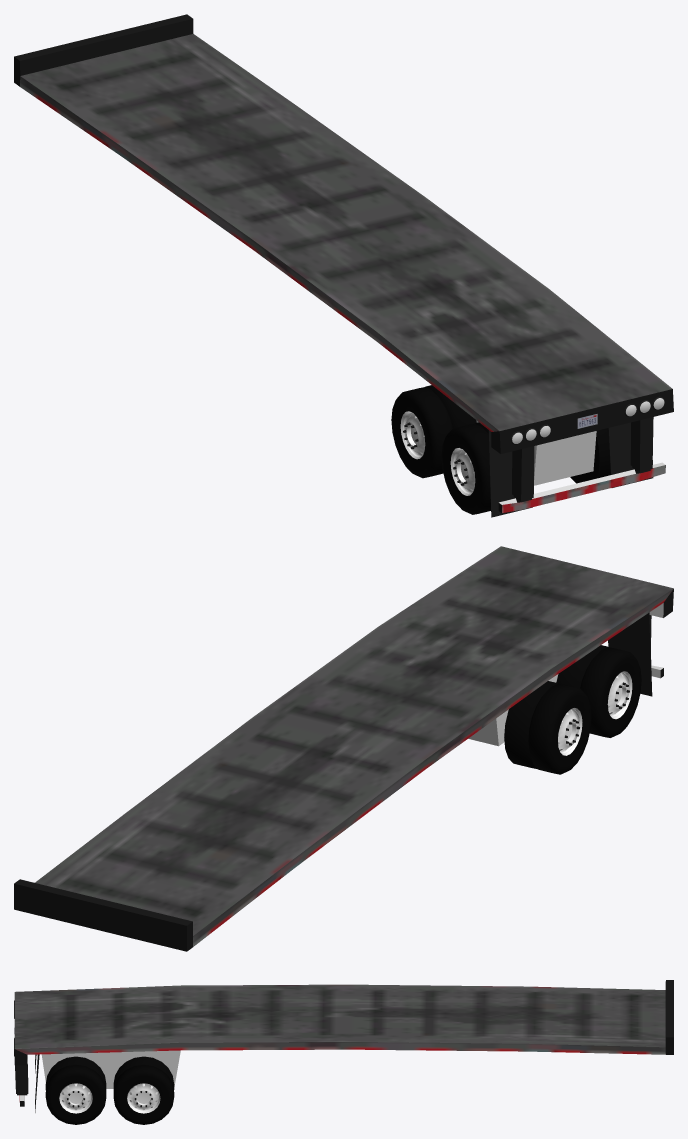
File: MCLA_VA_SEMITRUCK_00_FLATBED.glb
3 renders of one model, top to bottom at view 1: azimuth 30°, elevation 25°; view 2: azimuth 150°, elevation 25°; view 3: azimuth 270°, elevation 25°, orthographic. The views are drawn at different scales.
Visible parts, largest first — view 1: va_semitruck_00_flatbed/resources/vehicle/va_semitruck_00_fl (×6); view 2: va_semitruck_00_flatbed/resources/vehicle/va_semitruck_00_fl (×5); view 3: va_semitruck_00_flatbed/resources/vehicle/va_semitruck_00_fl (×5).
Boxes of the visible parts, bbox=[...] form: va_semitruck_00_flatbed/resources/vehicle/va_semitruck_00_fl (×6): bbox=[14, 14, 673, 517]; va_semitruck_00_flatbed/resources/vehicle/va_semitruck_00_fl (×5): bbox=[14, 546, 673, 951]; va_semitruck_00_flatbed/resources/vehicle/va_semitruck_00_fl (×5): bbox=[14, 980, 673, 1124].
Bounding box in the file's own units: 2.62 × 1.94 × 12.71.
Materials: 8 (6 with a texture image).
